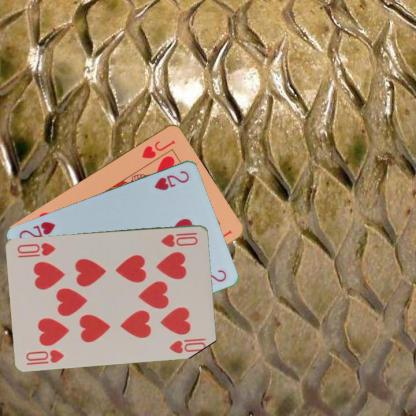10h: (158, 230, 200, 248), (23, 347, 65, 364)
2h: (152, 168, 191, 191)
Jh: (138, 136, 176, 160)
